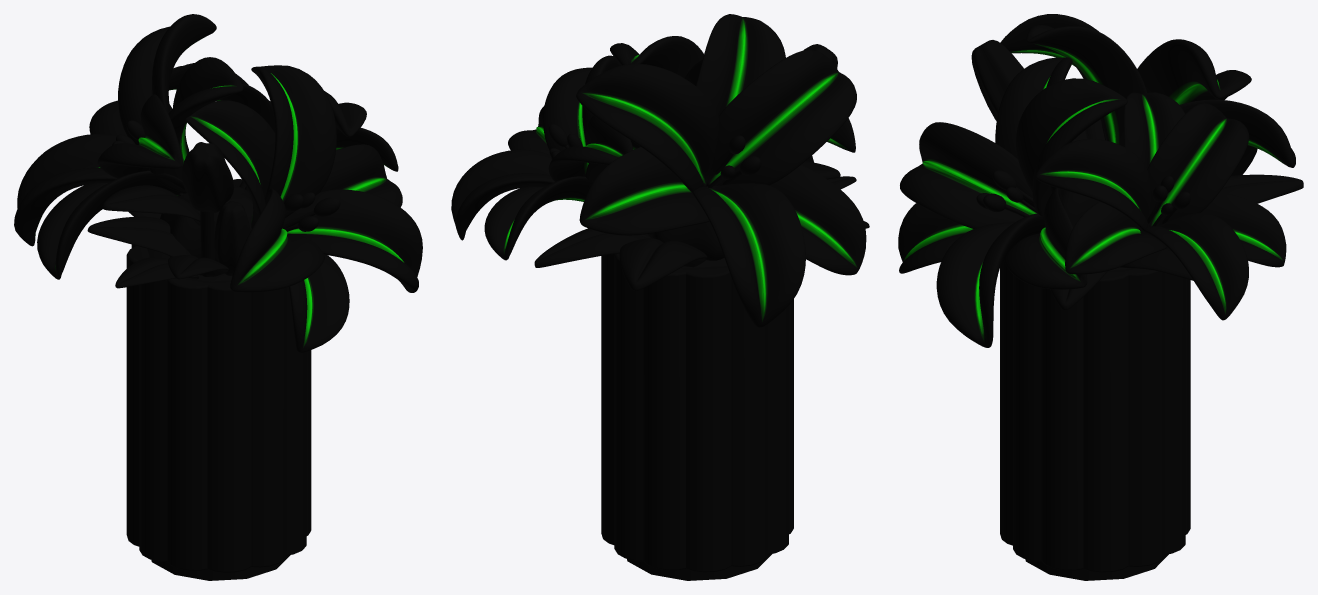
The model's file is Lillies.fbx.
3 views of the same model, side by side, from view 1: azimuth 30°, elevation 25°; view 2: azimuth 150°, elevation 25°; view 3: azimuth 270°, elevation 25° (orthographic). The views are drawn at different scales.
Visible parts, largest first — view 1: pasted__pCylinder401; view 2: pasted__pCylinder401; view 3: pasted__pCylinder401.
Boxes of the visible parts, box(x1,y1,x2,y2) form: pasted__pCylinder401: box(14, 14, 422, 580); pasted__pCylinder401: box(451, 14, 869, 580); pasted__pCylinder401: box(898, 14, 1303, 580).
Size of the model in its own units: 13.75 by 19.31 by 13.71.
